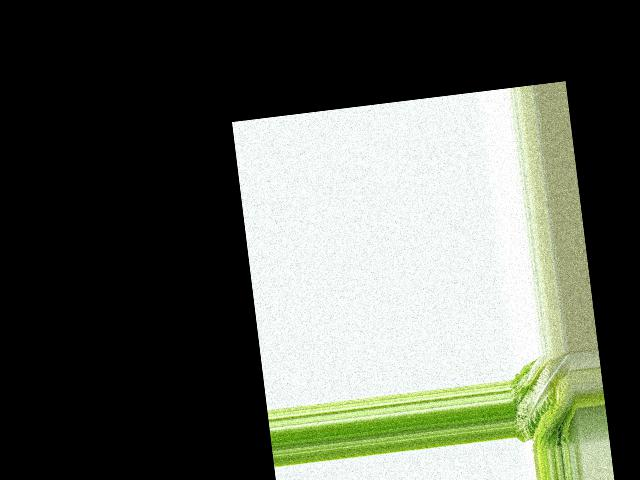lettuce: (507, 351, 581, 454)
